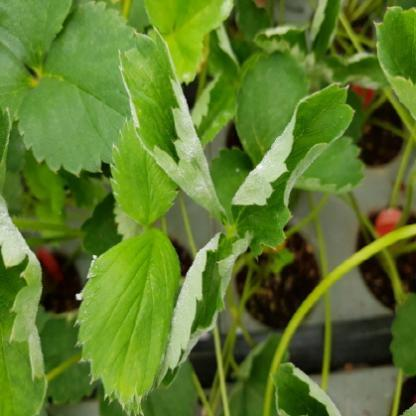Strawberry_Powdery_Mildew_Leaf: (228, 81, 357, 260), (118, 24, 230, 226), (73, 226, 183, 415), (158, 230, 256, 390), (0, 192, 47, 416), (268, 362, 342, 415)
